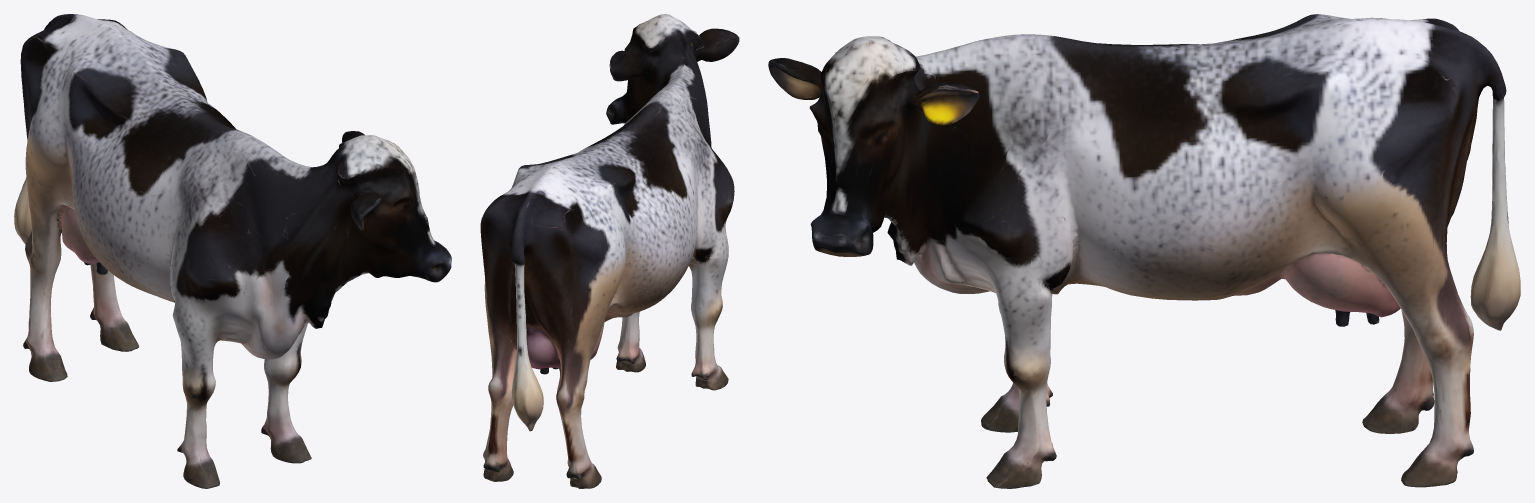
3 views of the same model, side by side, from view 1: azimuth 30°, elevation 25°; view 2: azimuth 150°, elevation 25°; view 3: azimuth 270°, elevation 25° (orthographic). The views are drawn at different scales.
Visible parts, largest first — view 1: world; view 2: world; view 3: world.
Boxes of the visible parts, box(x1,y1,x2,y2) form: world: box(14, 14, 451, 488); world: box(480, 14, 739, 488); world: box(768, 14, 1520, 488).
Bounding box in the file's own units: 0.4258 × 0.6749 × 0.9996.
Materials: 1 (1 with a texture image).
